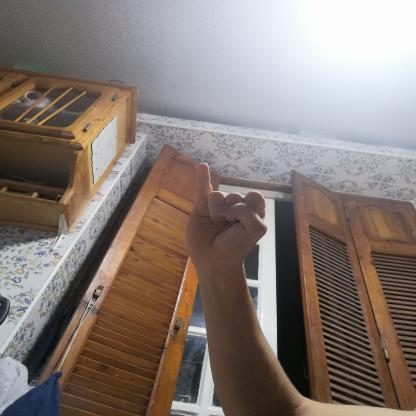MEEM: (172, 156, 278, 270)
